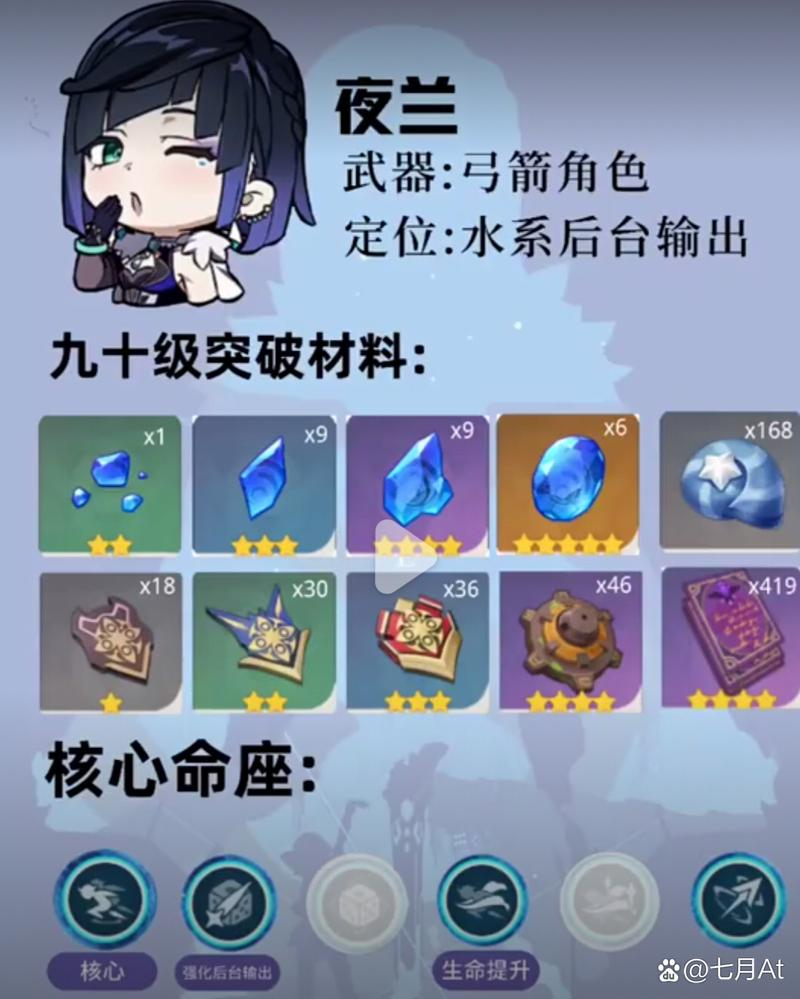夜兰: (47, 4, 326, 310)
